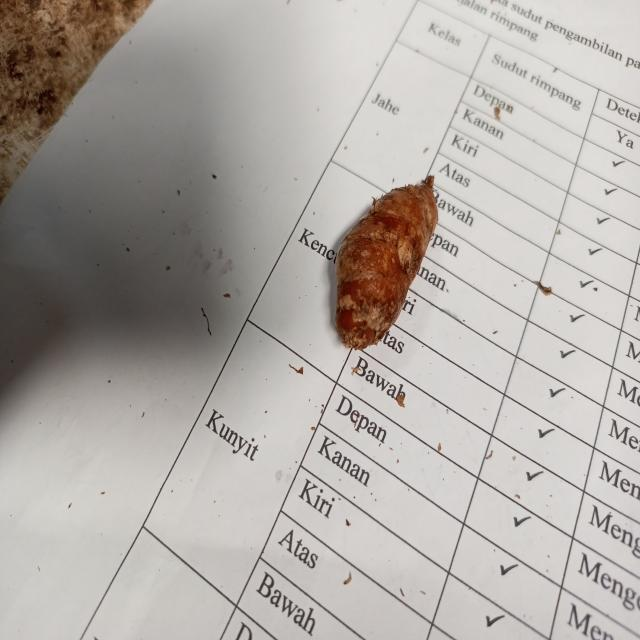ginger: (340, 173, 438, 346)
